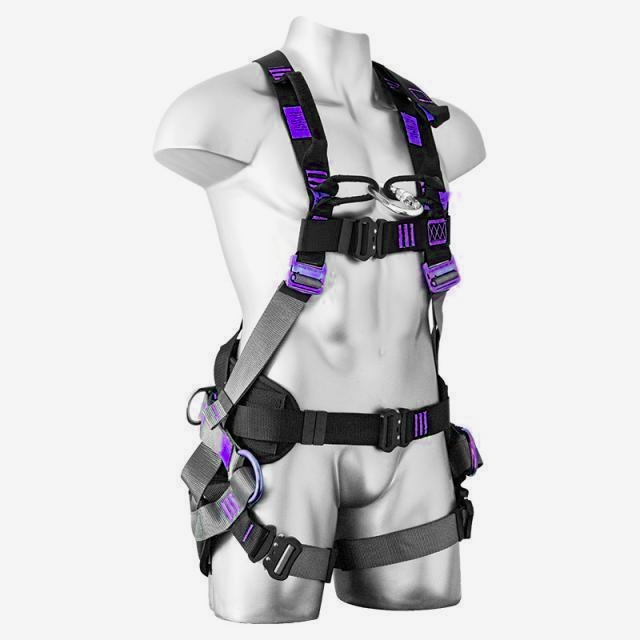safety belt: (172, 60, 519, 596)
